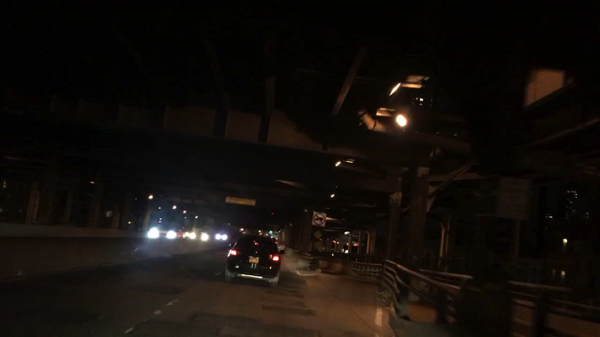car: (224, 233, 282, 288), (153, 222, 186, 242), (186, 230, 210, 242), (214, 230, 228, 241), (276, 241, 286, 255)
traffic sign: (497, 174, 530, 221), (225, 196, 255, 205), (312, 210, 327, 227), (313, 243, 321, 253), (315, 230, 321, 241)
